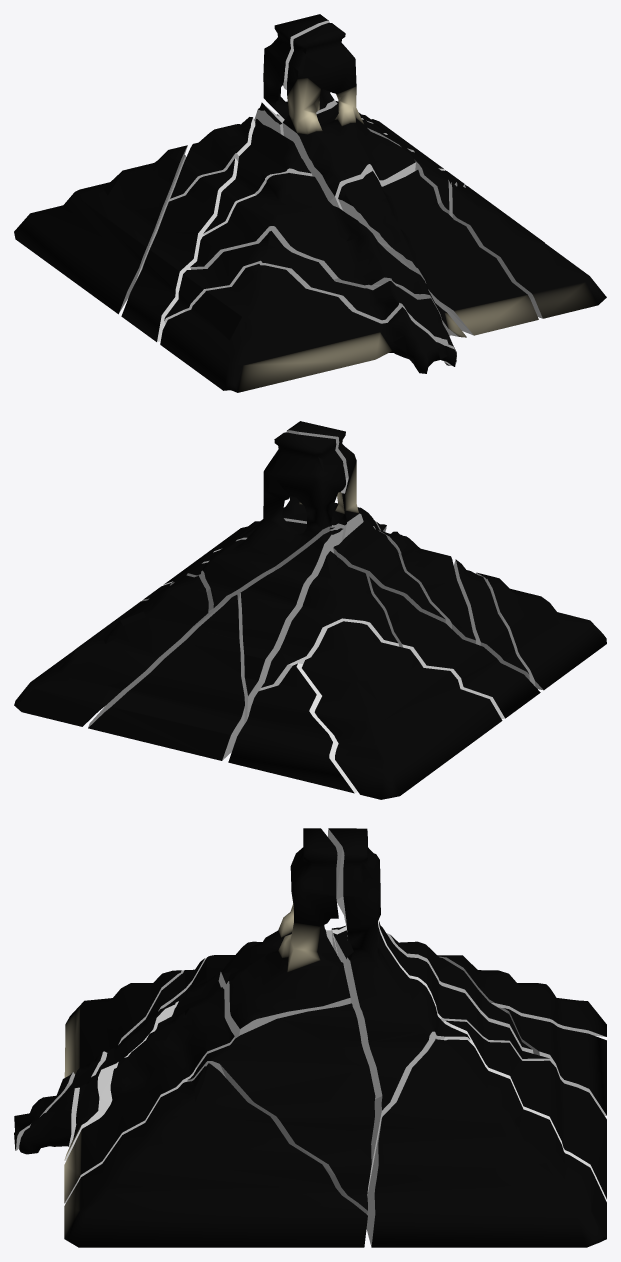
Rendered from Aztec Pyramids(1).glb.
The picture shows the model from 3 angles, top to bottom: view 1: azimuth 30°, elevation 25°; view 2: azimuth 150°, elevation 25°; view 3: azimuth 270°, elevation 25°; orthographic projection. The views are drawn at different scales.
Visible parts, largest first — view 1: Root, Root.001, Root.002, Root.004, Root.009, Root.005, Root.008, Root.006, Root.012, Root.014, Root.003, Root.013 (+1 smaller); view 2: Root.002, Root.015, Root.011, Root.003, Root.010, Root.006, Root.007, Root, Root.014, Root.012, Root.004, Root.008 (+1 smaller); view 3: Root.011, Root.005, Root.013, Root.003, Root.009, Root.001, Root.015, Root, Root.002, Root.010, Root.004, Root.008 (+2 smaller).
Part boxes in pixels (x1,y1,x2,y2): Root: (160,264,456,392); Root.001: (338,170,538,335); Root.002: (14,145,187,314); Root.004: (190,173,466,337); Root.009: (282,22,415,210); Root.005: (450,182,606,318); Root.008: (164,231,456,365); Root.006: (121,158,238,342); Root.012: (203,119,312,235); Root.014: (169,117,255,201); Root.003: (263,14,387,134); Root.013: (362,119,465,214); Root.002: (302,621,502,799); Root.015: (88,595,244,760); Root.011: (14,575,208,726); Root.003: (186,432,345,632); Root.010: (228,663,357,793); Root.006: (367,576,540,718); Root.007: (238,528,343,724); Root: (475,572,606,690); Root.014: (260,551,399,690); Root.012: (333,520,445,622); Root.004: (378,530,475,643); Root.008: (454,559,529,679); Root.011: (366,1039,606,1247); Root.005: (64,1063,367,1247); Root.013: (187,1003,375,1214); Root.003: (328,828,470,1195); Root.009: (218,828,350,1038); Root.001: (64,975,234,1203); Root.015: (443,1020,606,1199); Root: (14,970,184,1150); Root.002: (438,955,606,1036); Root.010: (499,1007,606,1115); Root.004: (64,941,261,1160); Root.008: (19,958,205,1154).
Size of the model in its own units: 22.96 by 14.27 by 25.09.
